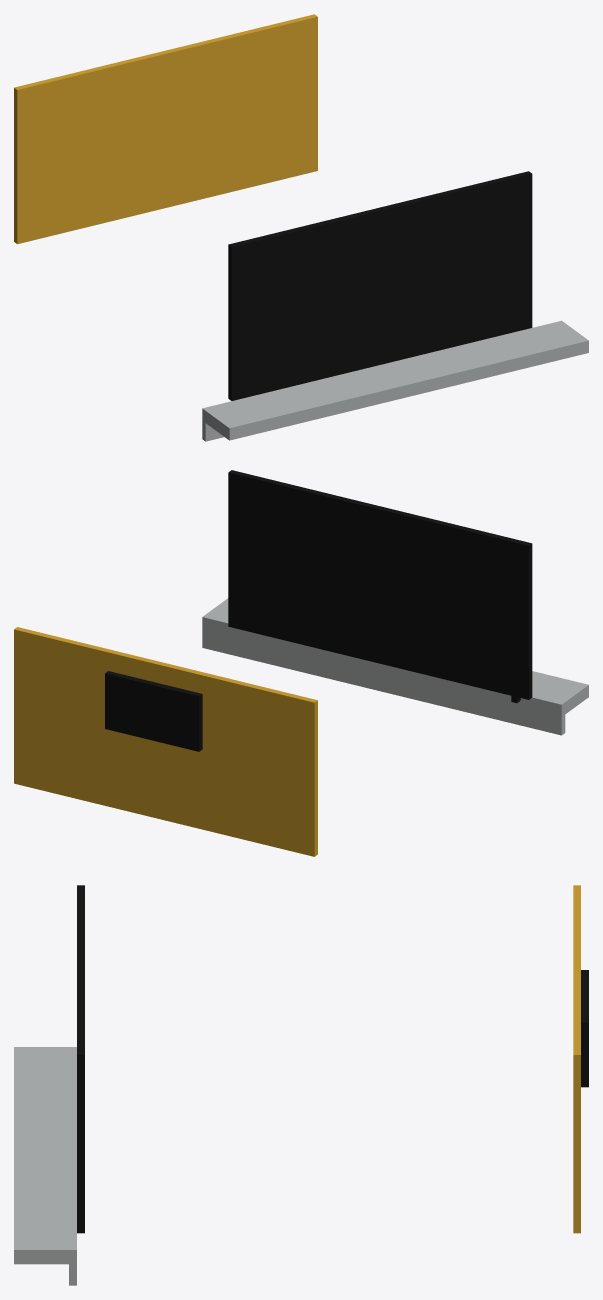
The model's file is food_truck_counter.glb.
3 views of the same model, one above another, from view 1: azimuth 30°, elevation 25°; view 2: azimuth 150°, elevation 25°; view 3: azimuth 270°, elevation 25° (orthographic). The views are drawn at different scales.
Parts seen in each view (by area): view 1: body:compound; view 2: body:compound; view 3: body:compound.
Part boxes in pixels (bbox=[...]): body:compound: bbox=[14, 14, 588, 441]; body:compound: bbox=[14, 470, 588, 856]; body:compound: bbox=[14, 885, 588, 1285].
Bounding box in the file's own units: 1.91 × 0.9375 × 2.28.
